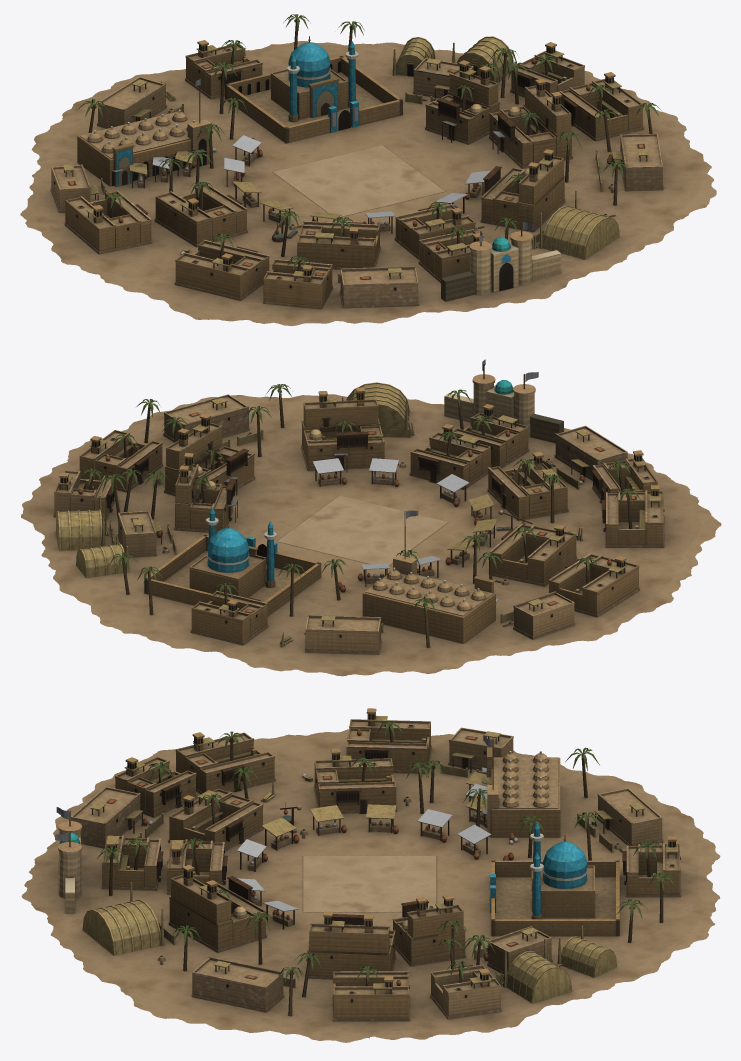
The model's file is gunpowder-town-big-a-mesopotamia.glb.
3 renders of one model, top to bottom at view 1: azimuth 30°, elevation 25°; view 2: azimuth 150°, elevation 25°; view 3: azimuth 270°, elevation 25°, orthographic. The views are drawn at different scales.
Visible parts, largest first — view 1: LOD0; view 2: LOD0; view 3: LOD0.
Boxes of the visible parts, left/top/right/bottom form: LOD0: left=20, top=14, right=716, bottom=326; LOD0: left=21, top=359, right=721, bottom=676; LOD0: left=21, top=708, right=720, bottom=1042.
Size of what is drawn, in the model's own units: 7.93 by 1.11 by 7.49.
3 materials, 3 textured.
